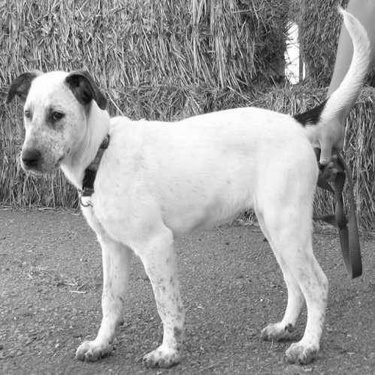dog: (6, 2, 372, 371)
